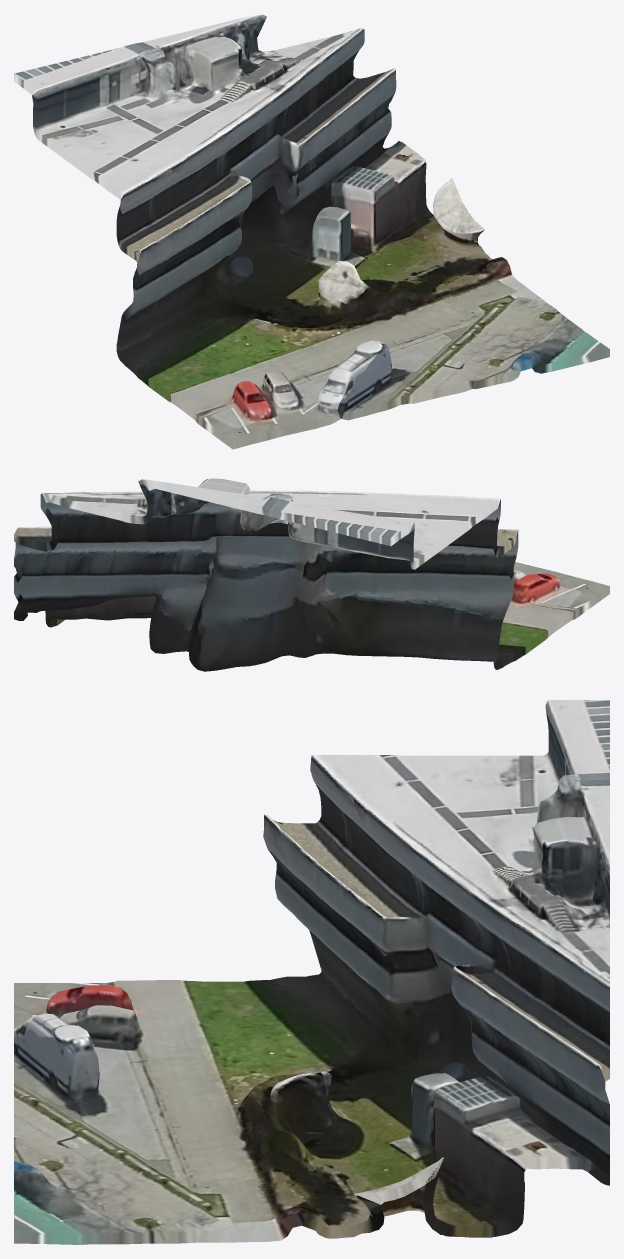
Rendered from z20-167774-405202-h0-yup-uvflip-v3-world.glb.
3 renders of one model, top to bottom at view 1: azimuth 30°, elevation 25°; view 2: azimuth 150°, elevation 25°; view 3: azimuth 270°, elevation 25°, orthographic. The views are drawn at different scales.
Size of the model in its own units: 30.16 by 16.68 by 30.32.
1 material, 1 textured.
